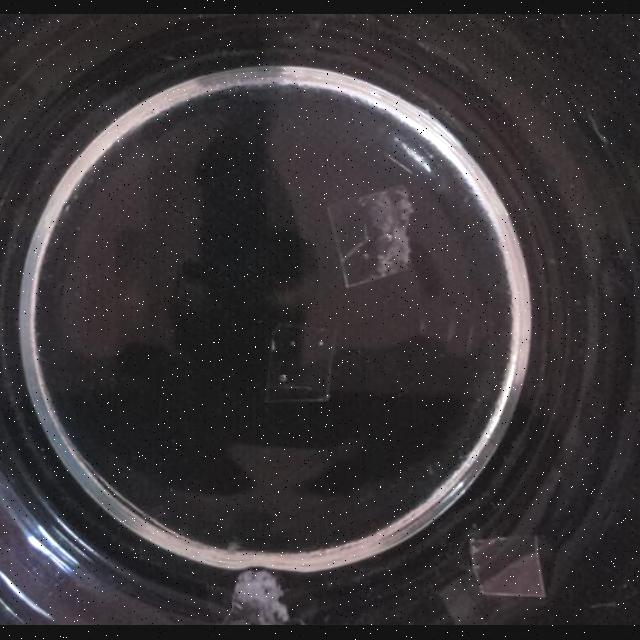Film: (324, 183, 418, 294), (208, 566, 314, 626), (264, 321, 338, 405), (468, 534, 546, 604)
